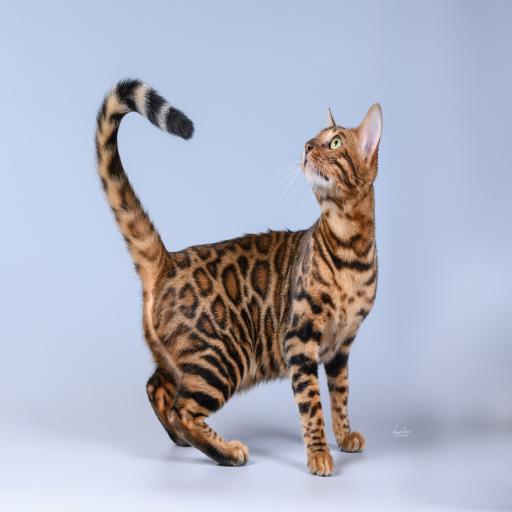cats: (95, 80, 381, 475)
